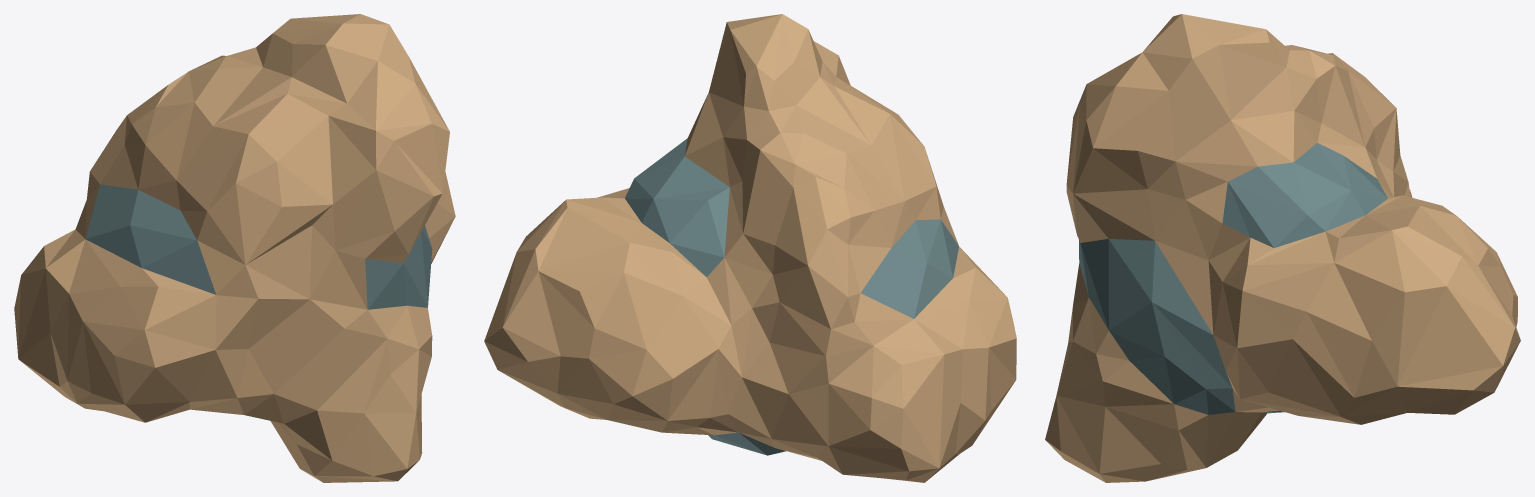
The model's file is SM_LP_MetalNode_1.fbx.
The picture shows the model from 3 angles, left to right: view 1: azimuth 30°, elevation 25°; view 2: azimuth 150°, elevation 25°; view 3: azimuth 270°, elevation 25°; orthographic projection. The views are drawn at different scales.
Parts seen in each view (by area): view 1: SM_LP_MetalNode_1; view 2: SM_LP_MetalNode_1; view 3: SM_LP_MetalNode_1.
Part boxes in pixels (x1,y1,x2,y2): SM_LP_MetalNode_1: (14,14,455,482); SM_LP_MetalNode_1: (484,14,1016,482); SM_LP_MetalNode_1: (1045,14,1520,482).
Size of the model in its own units: 1.1 by 1.12 by 1.05.
